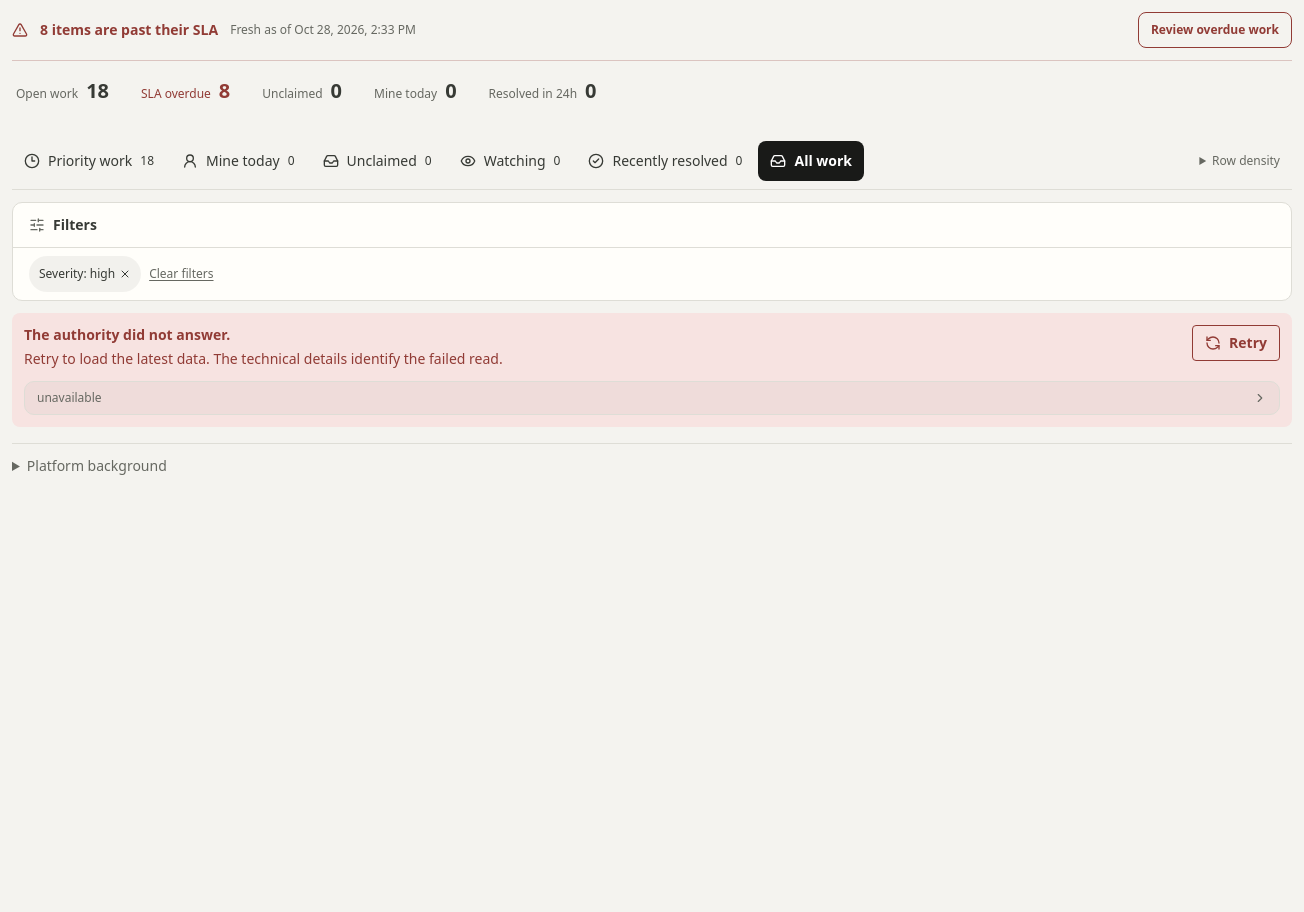
Test: Today operator actions › recovers a failed filtered read without losing its query or claiming an empty queue
Expected: the message that starts with "The authority did not answer." shows "Retry to load the latest data", [24, 349, 503, 368]
Step 1. Click the button "Retry" → (1236, 343), box [1192, 325, 1280, 361]
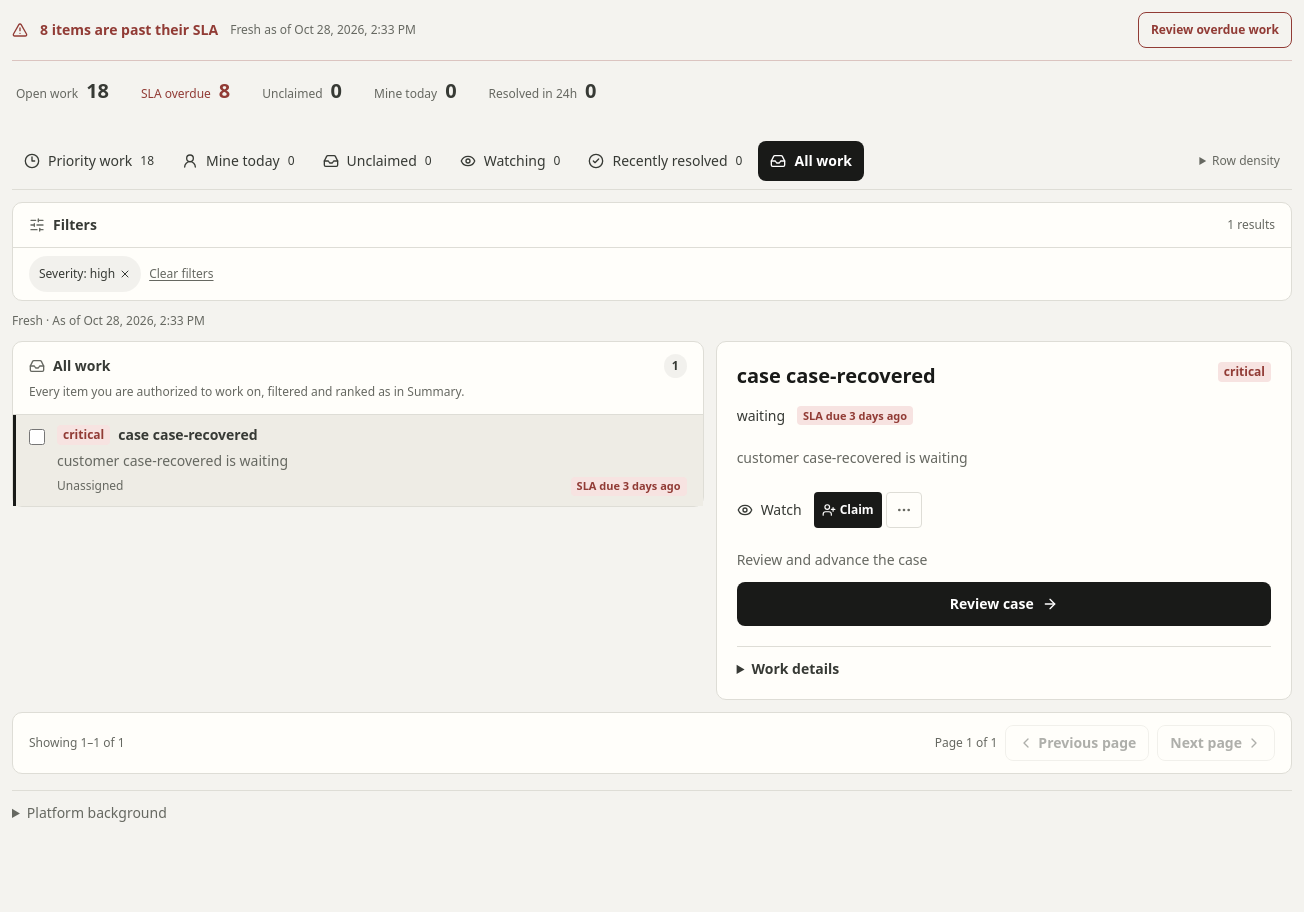
Expected: the message is gone
Expected: the text "case-recovered" is shown, [118, 425, 258, 444]
